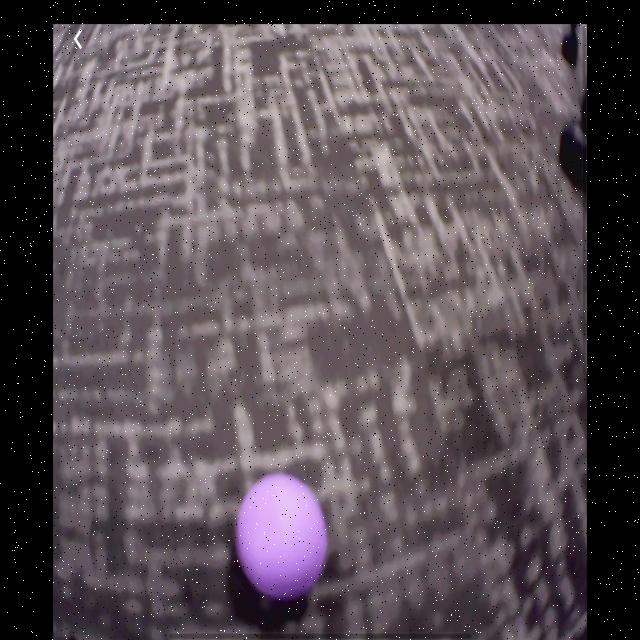ball: (238, 474, 327, 602)
